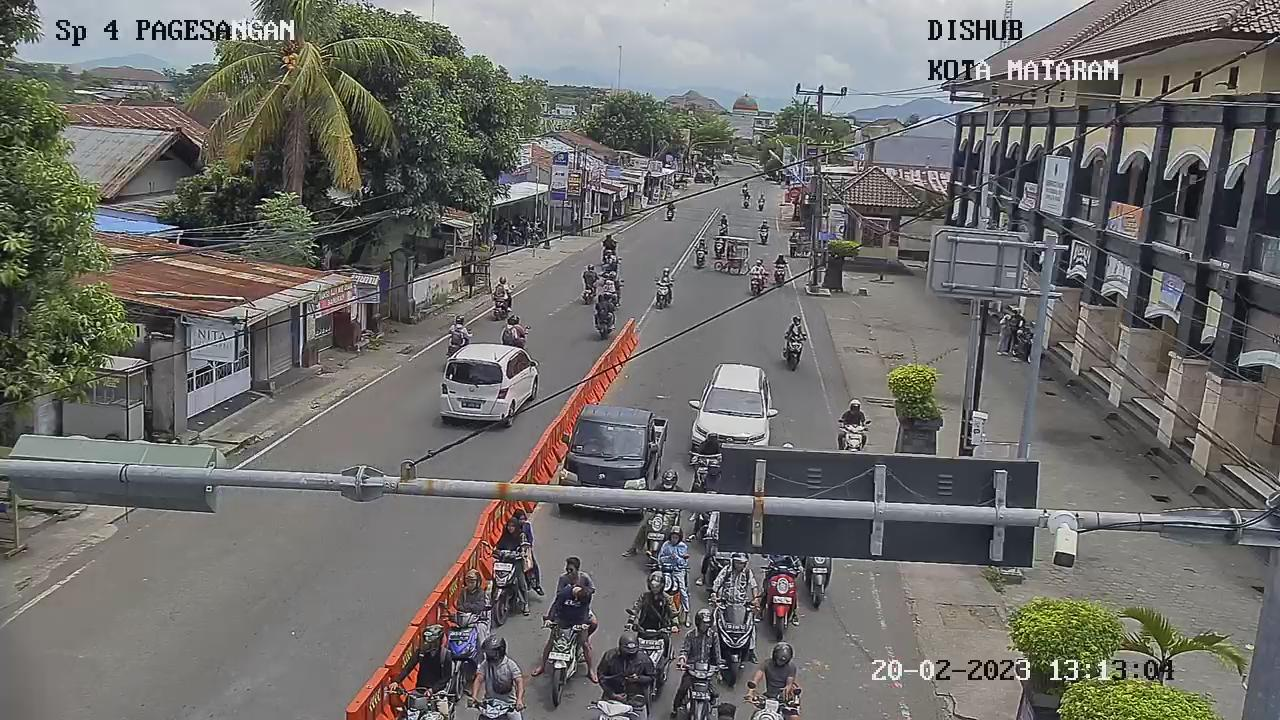car: (559, 392, 674, 491), (444, 343, 539, 425), (694, 363, 775, 444)
motorbike: (537, 614, 586, 714), (711, 592, 756, 692), (751, 563, 805, 642), (675, 658, 728, 720), (439, 606, 491, 667), (480, 540, 528, 603), (626, 621, 673, 681), (799, 546, 837, 616), (643, 506, 679, 572), (836, 413, 869, 459), (781, 333, 806, 374), (652, 278, 674, 308), (747, 268, 766, 297), (771, 261, 791, 287), (710, 236, 726, 261), (693, 247, 708, 271), (756, 227, 771, 247), (716, 222, 729, 237), (755, 200, 765, 214), (741, 198, 750, 210)
person: (597, 632, 657, 707), (466, 630, 526, 703), (744, 643, 802, 718), (399, 625, 455, 697), (628, 568, 677, 640), (709, 548, 759, 610), (548, 554, 592, 622), (681, 605, 722, 667), (446, 567, 489, 624), (492, 508, 532, 555), (653, 527, 689, 578), (839, 394, 870, 435), (500, 315, 529, 345), (444, 314, 472, 345), (489, 276, 515, 302), (595, 288, 616, 319), (782, 315, 807, 340), (577, 263, 600, 289), (600, 270, 623, 295), (654, 265, 675, 288), (600, 248, 621, 269), (600, 233, 619, 255), (750, 257, 766, 277), (773, 253, 790, 269), (758, 219, 772, 234), (694, 238, 709, 251), (755, 192, 767, 205), (718, 213, 729, 225)
